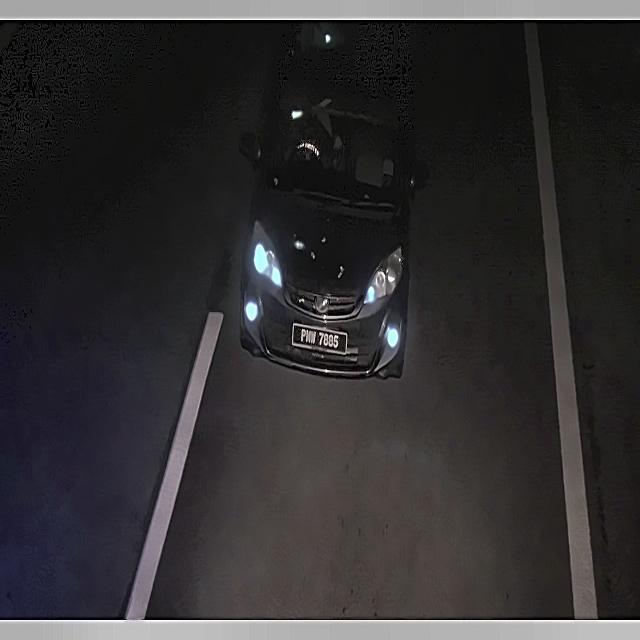car: (289, 324, 350, 360)
